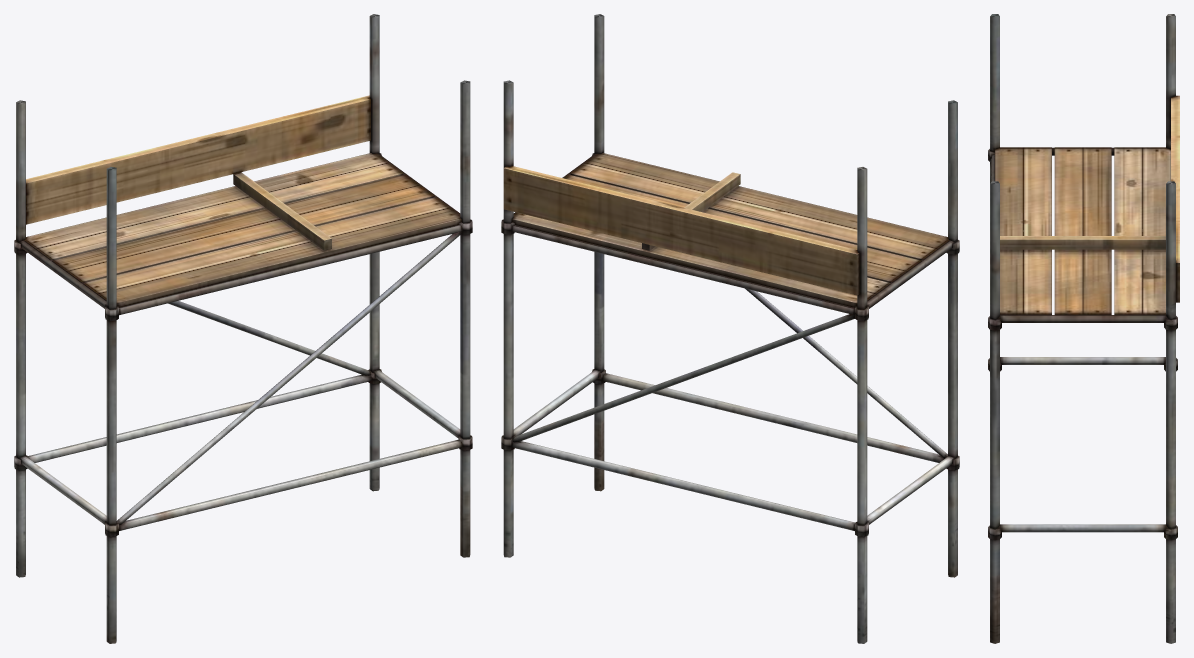
The model's file is andaime.glb.
3 views of the same model, side by side, from view 1: azimuth 30°, elevation 25°; view 2: azimuth 150°, elevation 25°; view 3: azimuth 270°, elevation 25° (orthographic). The views are drawn at different scales.
Parts seen in each view (by area): view 1: andaime; view 2: andaime; view 3: andaime.
Part boxes in pixels (x1,y1,x2,y2): andaime: (14,14,472,643); andaime: (501,14,959,643); andaime: (988,14,1179,643).
Size of the model in its own units: 1.86 by 2.3 by 0.872.
Materials: 1 (1 with a texture image).
